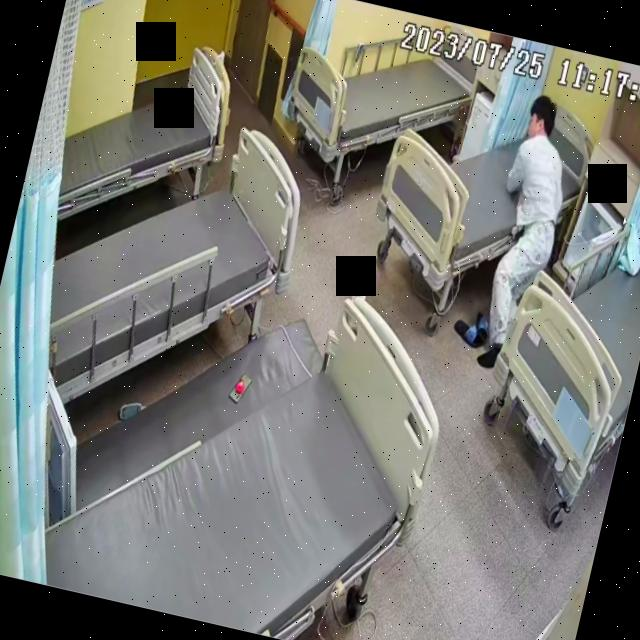bed: (32, 249, 454, 640), (21, 96, 314, 435), (473, 187, 640, 503), (365, 74, 597, 296), (46, 19, 244, 248), (282, 8, 482, 188)
fall: (460, 91, 584, 378)
patient: (461, 92, 584, 380)
